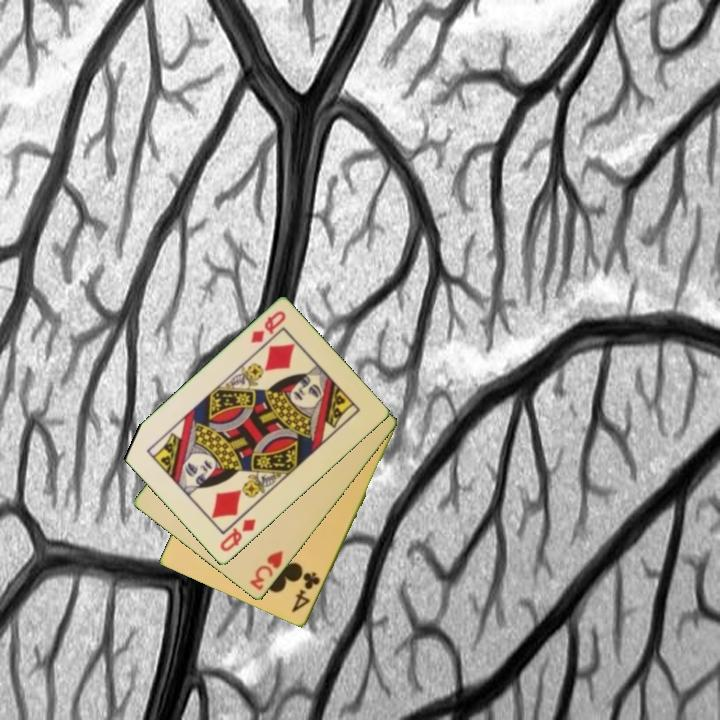3h: (246, 547, 286, 594)
4c: (288, 569, 323, 616)
Qd: (216, 515, 259, 555), (247, 307, 289, 347)
